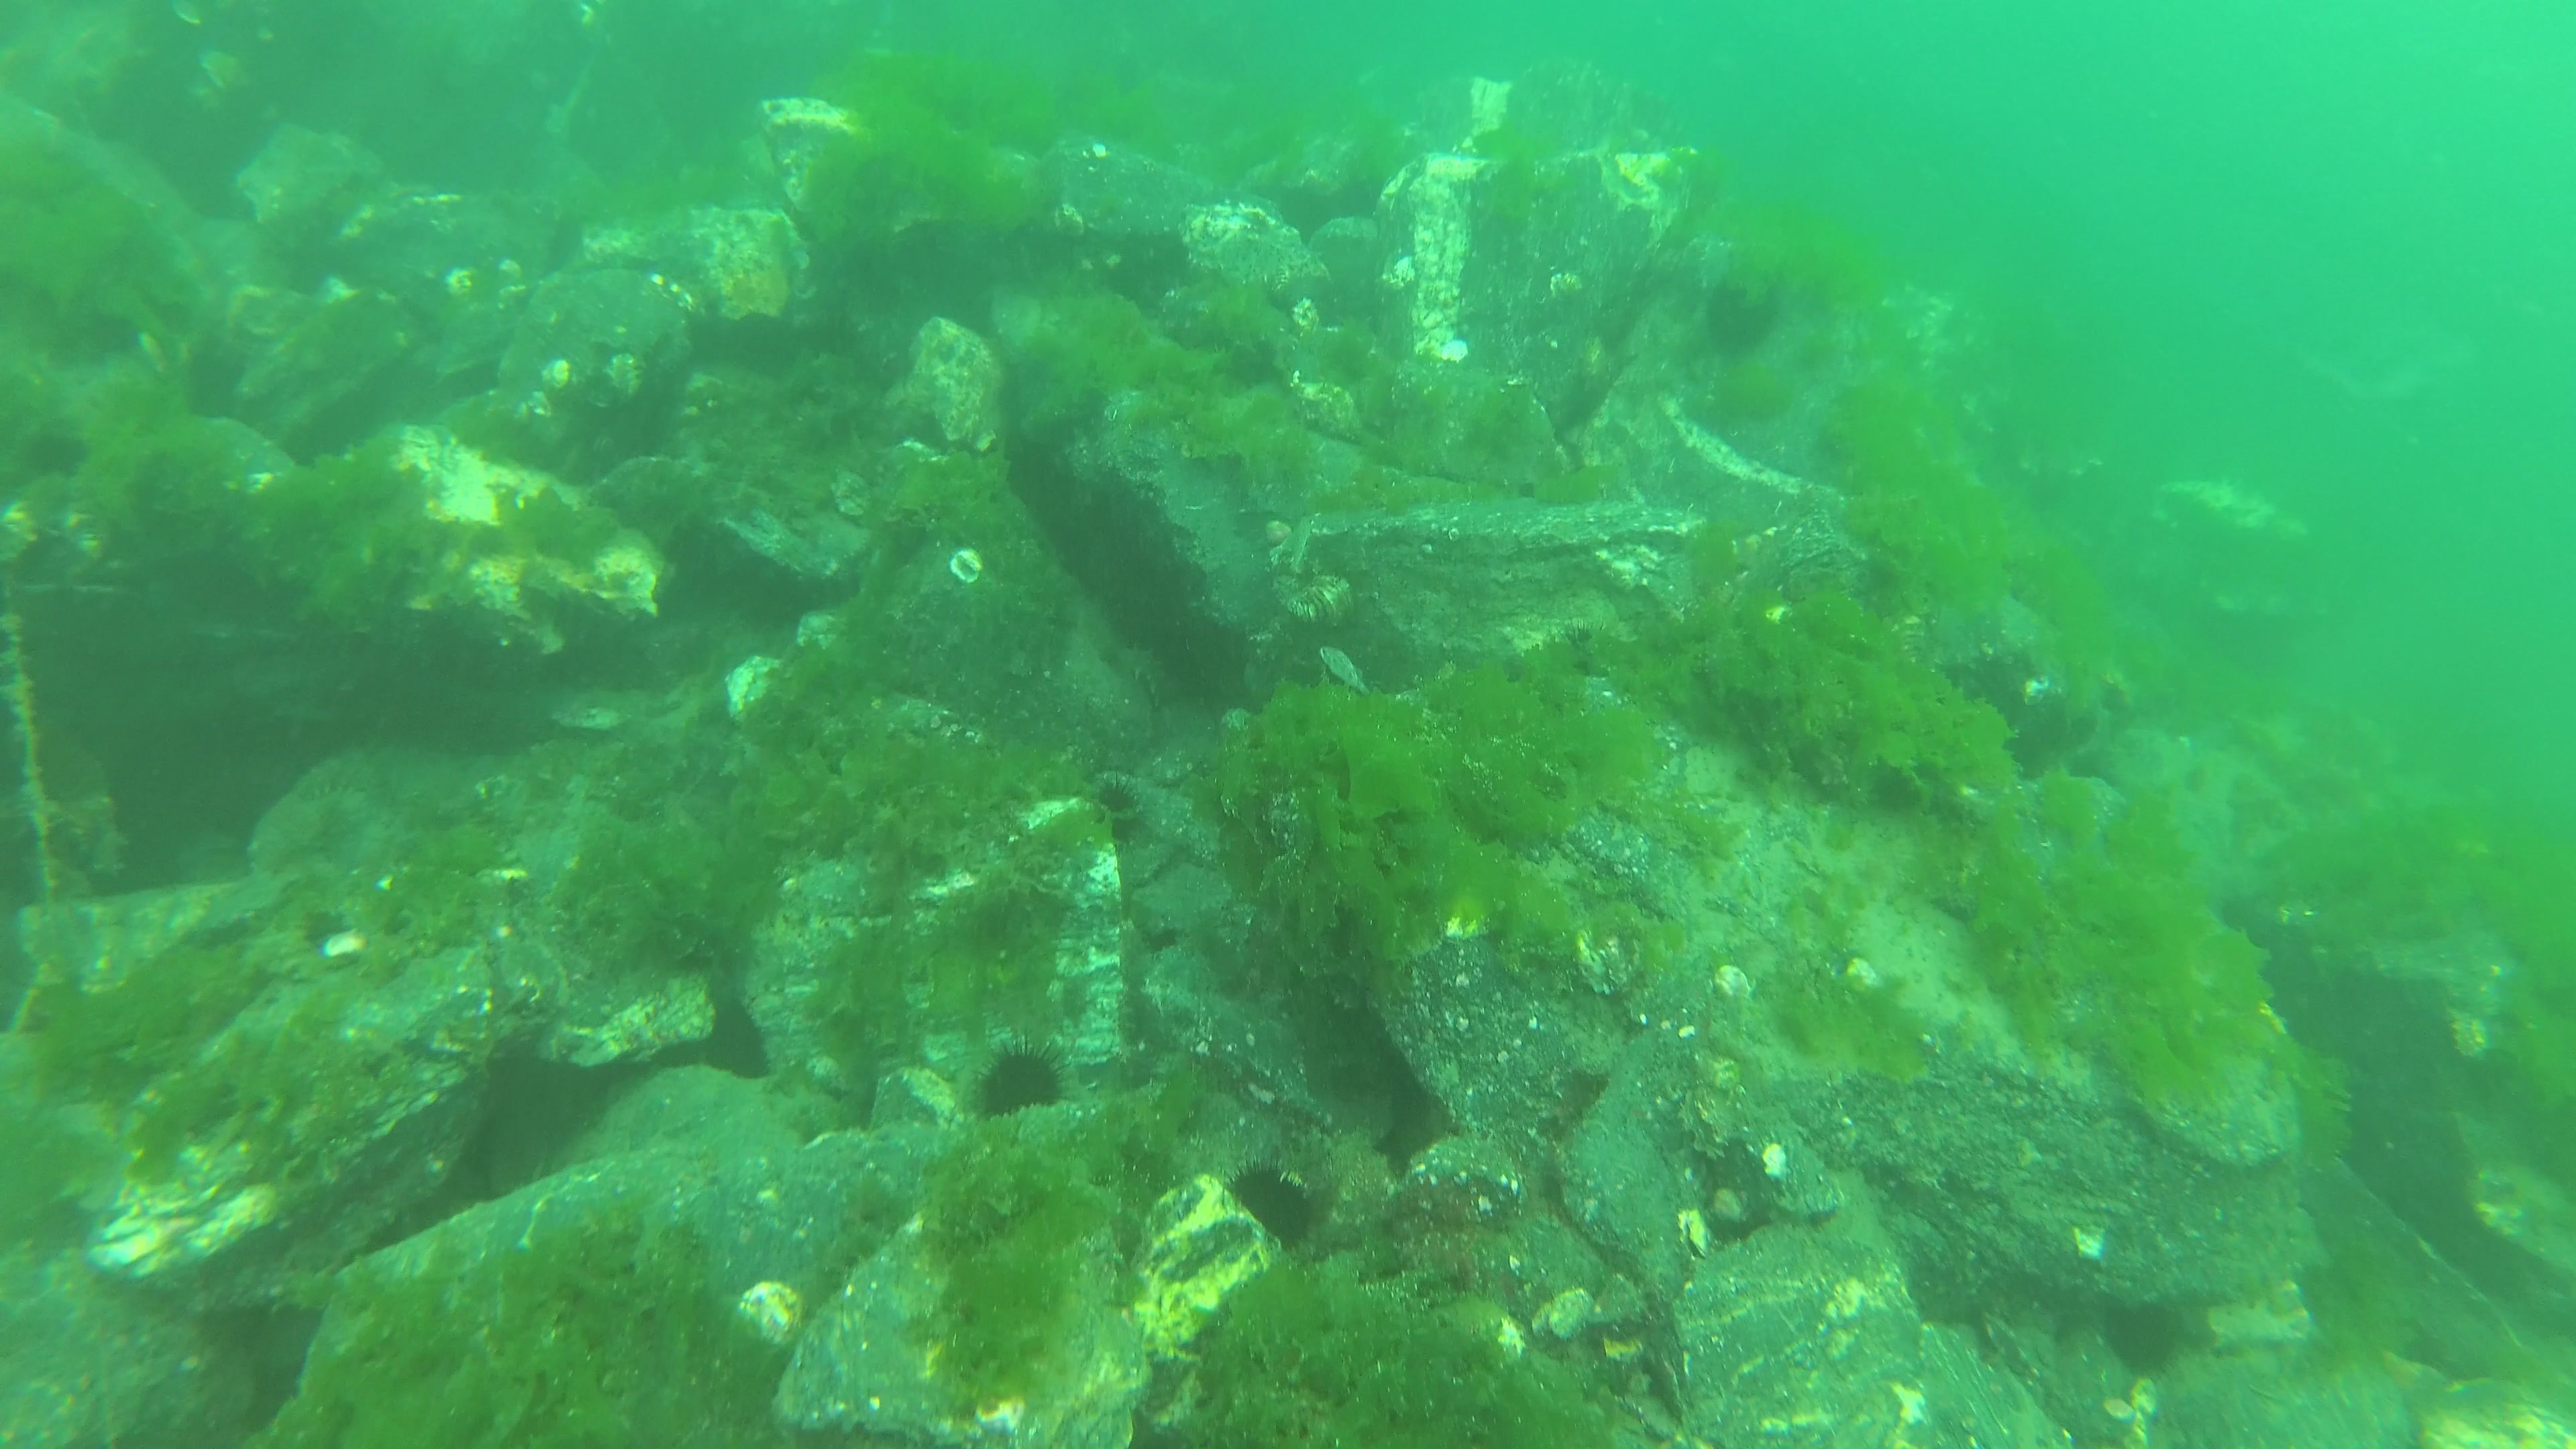echinus: (1224, 1162, 1318, 1251), (971, 1040, 1074, 1118), (2098, 1293, 2187, 1375), (1702, 280, 1782, 363), (1085, 777, 1146, 839), (800, 315, 867, 368)
